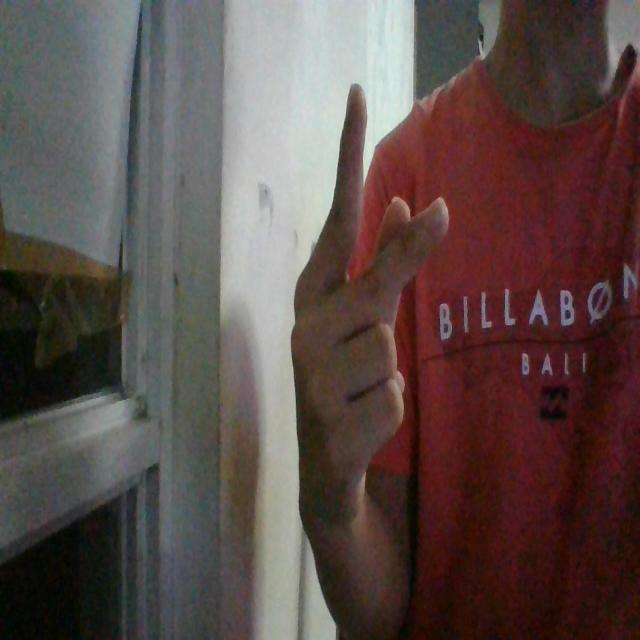K: (290, 81, 450, 526)
